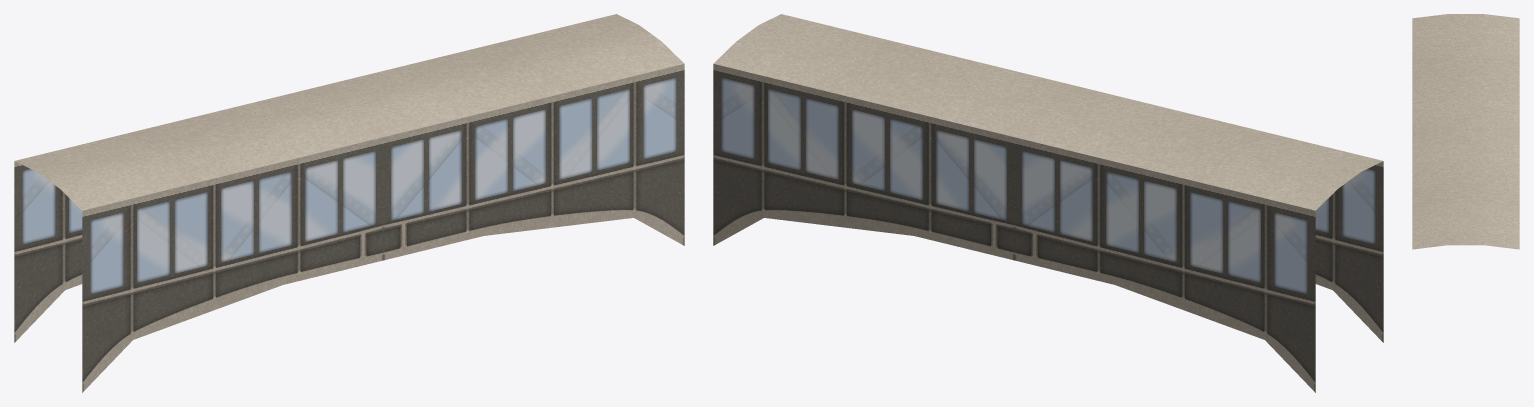
The model's file is Buildingbridge.fbx.
The picture shows the model from 3 angles, left to right: view 1: azimuth 30°, elevation 25°; view 2: azimuth 150°, elevation 25°; view 3: azimuth 270°, elevation 25°; orthographic projection. The views are drawn at different scales.
Parts seen in each view (by area): view 1: Куб; view 2: Куб; view 3: Куб.
Part boxes in pixels (left/top/right/bottom): Куб: left=14, top=14, right=684, bottom=392; Куб: left=713, top=14, right=1383, bottom=392; Куб: left=1412, top=14, right=1519, bottom=249.
Bounding box in the file's own units: 1023 × 305 × 200.
1 material, 1 textured.
